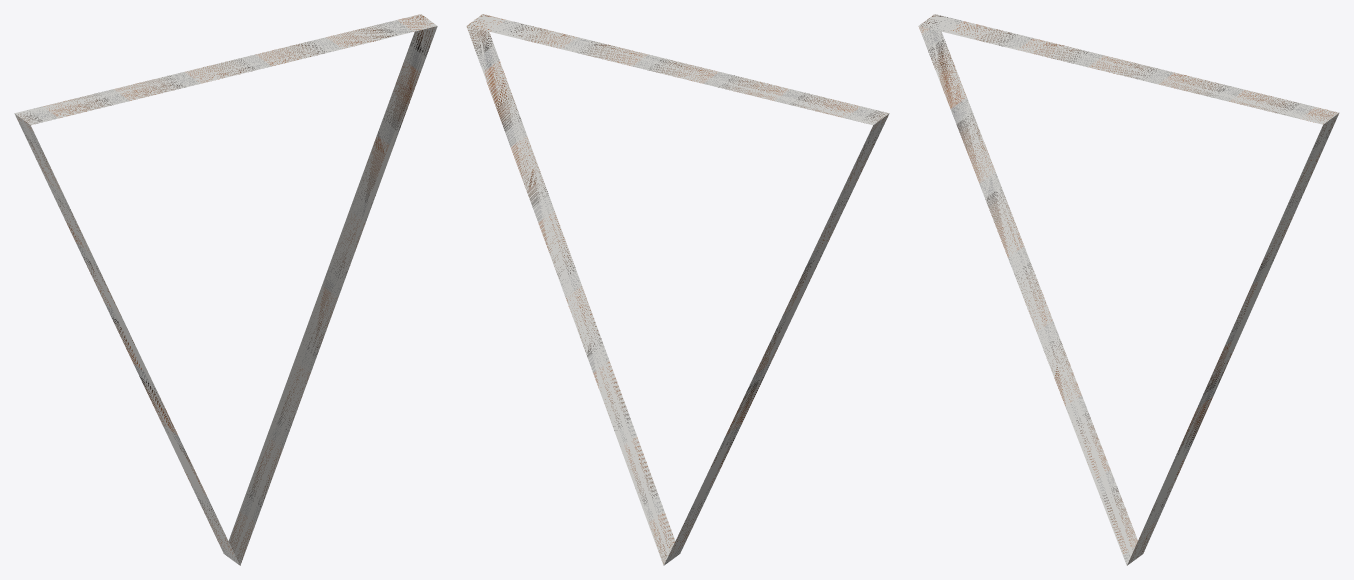
File: original-66.obj
The picture shows the model from 3 angles, left to right: view 1: azimuth 30°, elevation 25°; view 2: azimuth 150°, elevation 25°; view 3: azimuth 330°, elevation 25°; orthographic projection.
Visible parts, largest first — view 1: 3dw.2c6493d31849c15a75f1efca97bee05a/Model/Sentry_Really_Big_Rem; view 2: 3dw.2c6493d31849c15a75f1efca97bee05a/Model/Sentry_Really_Big_Rem; view 3: 3dw.2c6493d31849c15a75f1efca97bee05a/Model/Sentry_Really_Big_Rem.
Part boxes in pixels (bbox=[...]): 3dw.2c6493d31849c15a75f1efca97bee05a/Model/Sentry_Really_Big_Rem: bbox=[14, 14, 437, 565]; 3dw.2c6493d31849c15a75f1efca97bee05a/Model/Sentry_Really_Big_Rem: bbox=[466, 14, 889, 565]; 3dw.2c6493d31849c15a75f1efca97bee05a/Model/Sentry_Really_Big_Rem: bbox=[918, 14, 1339, 565].
Size of the model in its own units: 0.1464 by 0.1691 by 0.0103.
